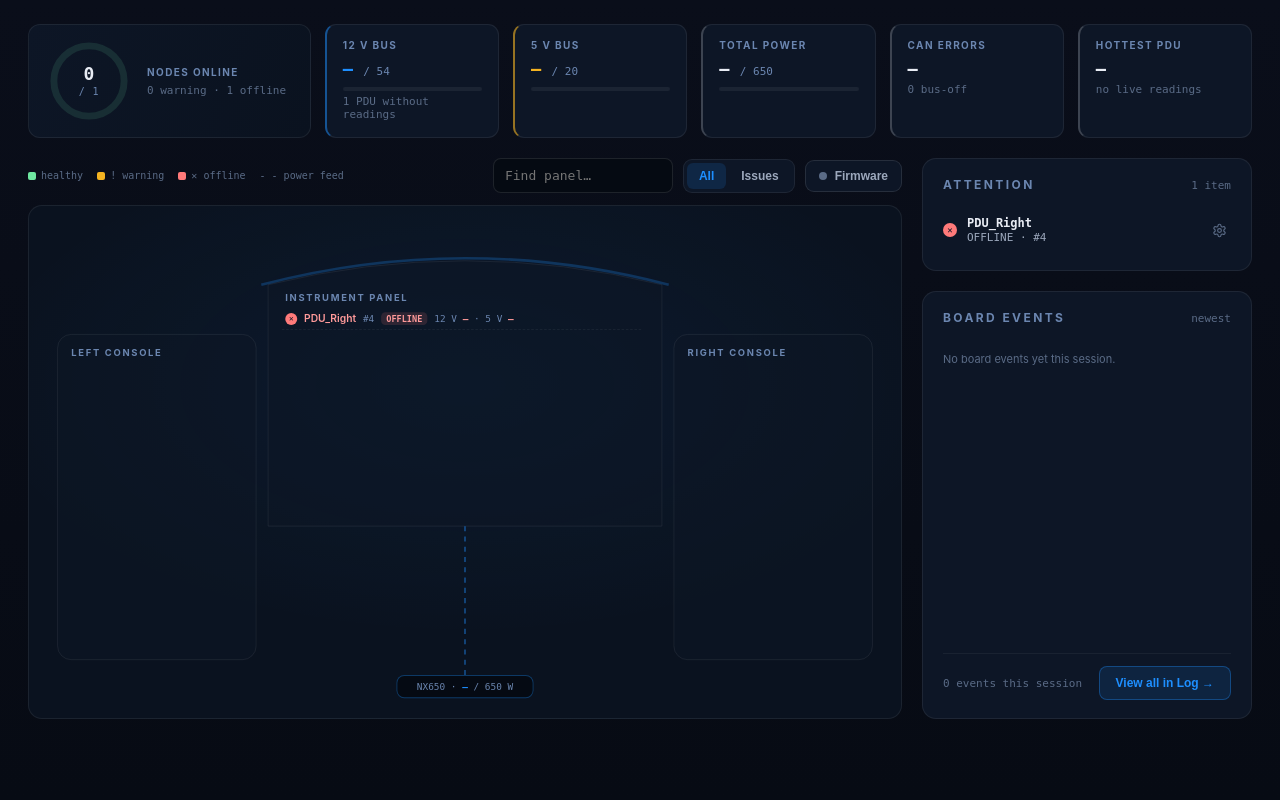
Scenario: T8 Board panel footer: PDU (B73, B9, B10, X8) › Reset to default restores the name and console only
Click the button titled "PDU_Right — power zone details" at (462, 320), box [282,310,641,330]
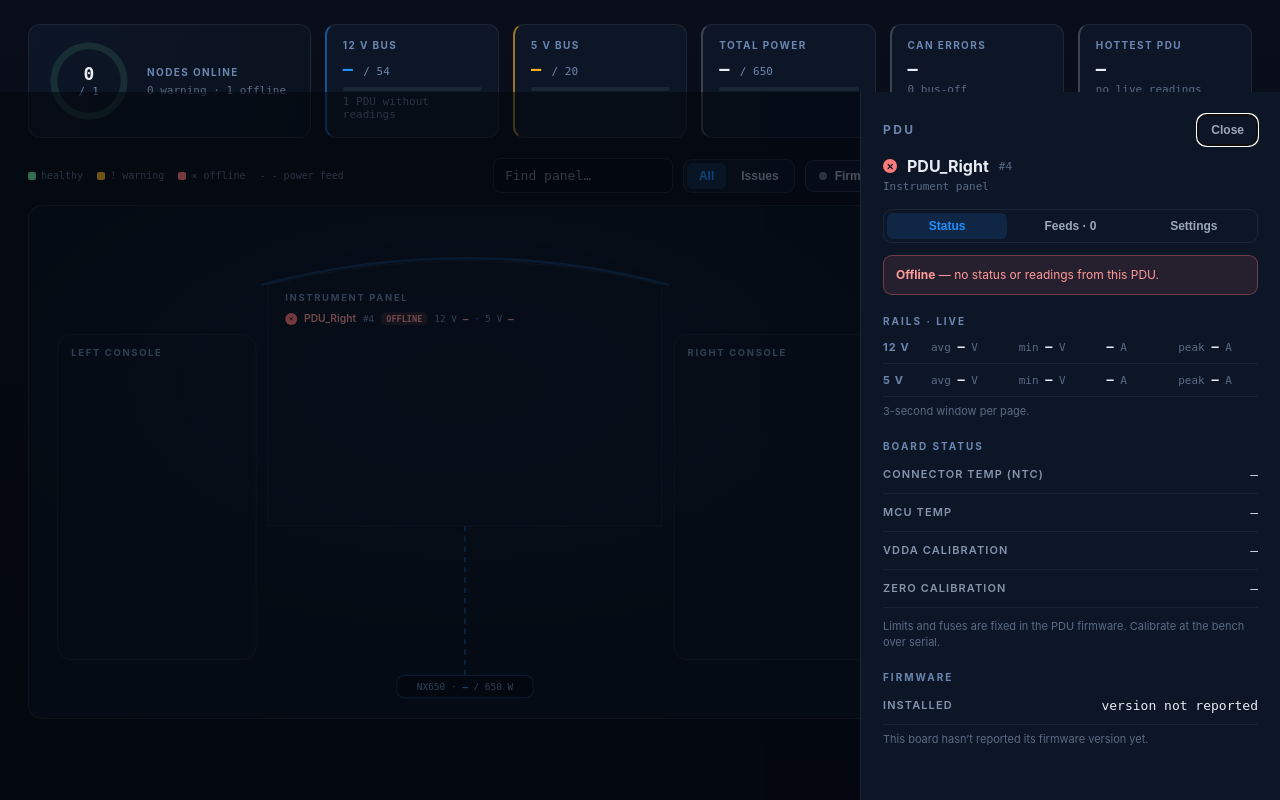
Click the tab "Settings" at (1194, 226), box [1134,213,1254,239]
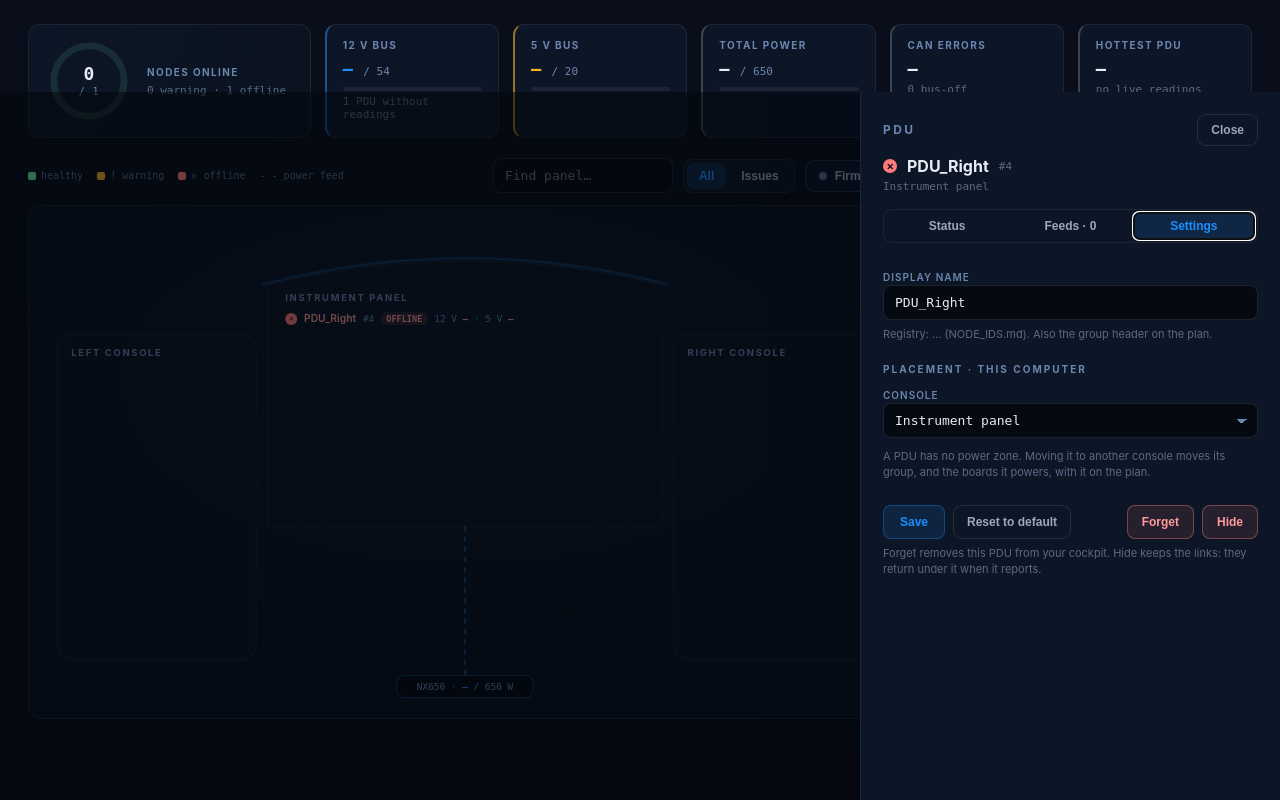
Expected: the button "Reset to default" is enabled, [953,504,1071,538]
